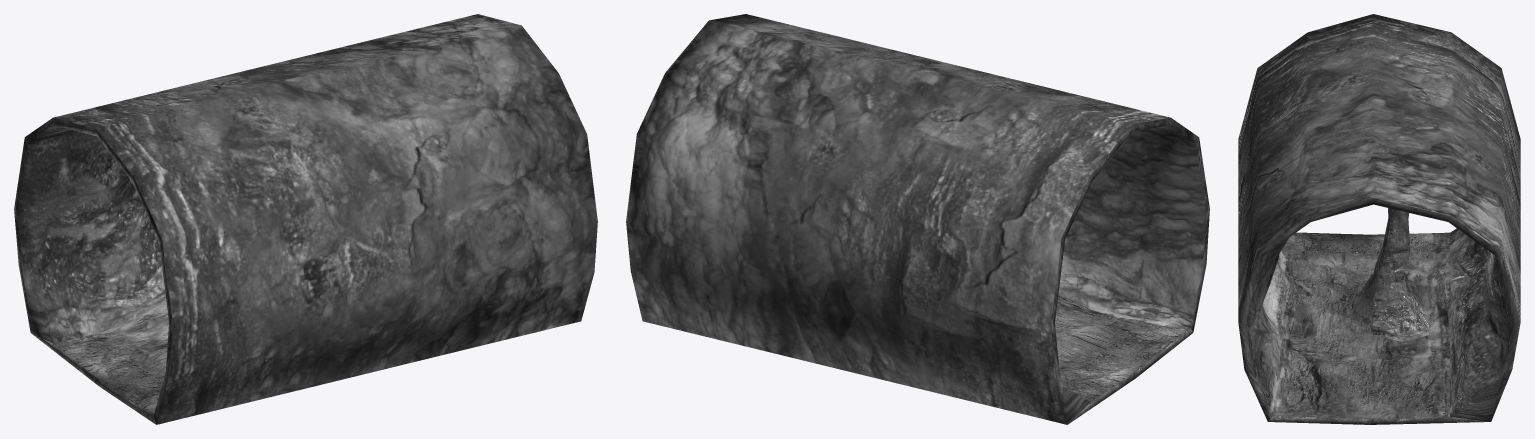
File: cavecorridor1.fbx
3 renders of one model, left to right at view 1: azimuth 30°, elevation 25°; view 2: azimuth 150°, elevation 25°; view 3: azimuth 270°, elevation 25°, orthographic. The views are drawn at different scales.
Parts seen in each view (by area): view 1: CaveCorridor1; view 2: CaveCorridor1; view 3: CaveCorridor1.
Part boxes in pixels (x1,y1,x2,y2): CaveCorridor1: (14, 14, 597, 424); CaveCorridor1: (626, 14, 1209, 424); CaveCorridor1: (1238, 14, 1520, 424).
Bounding box in the file's own units: 158 × 90.67 × 102.
1 material, 1 textured.
